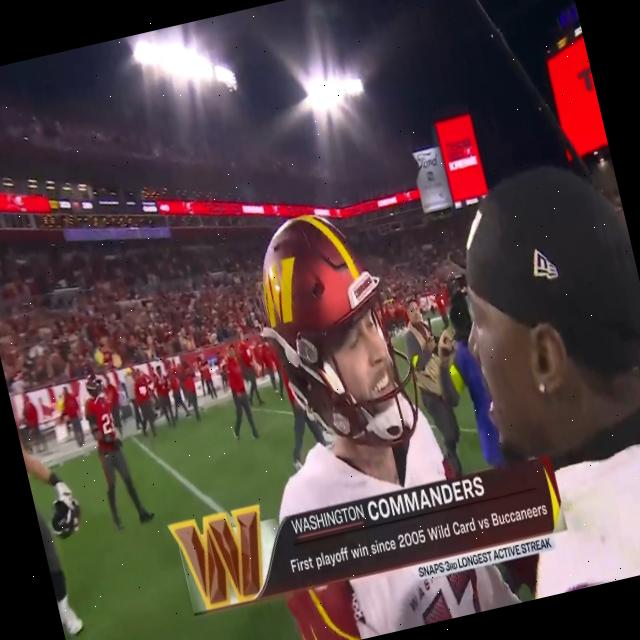Player: (213, 193, 450, 511), (80, 368, 148, 526)
